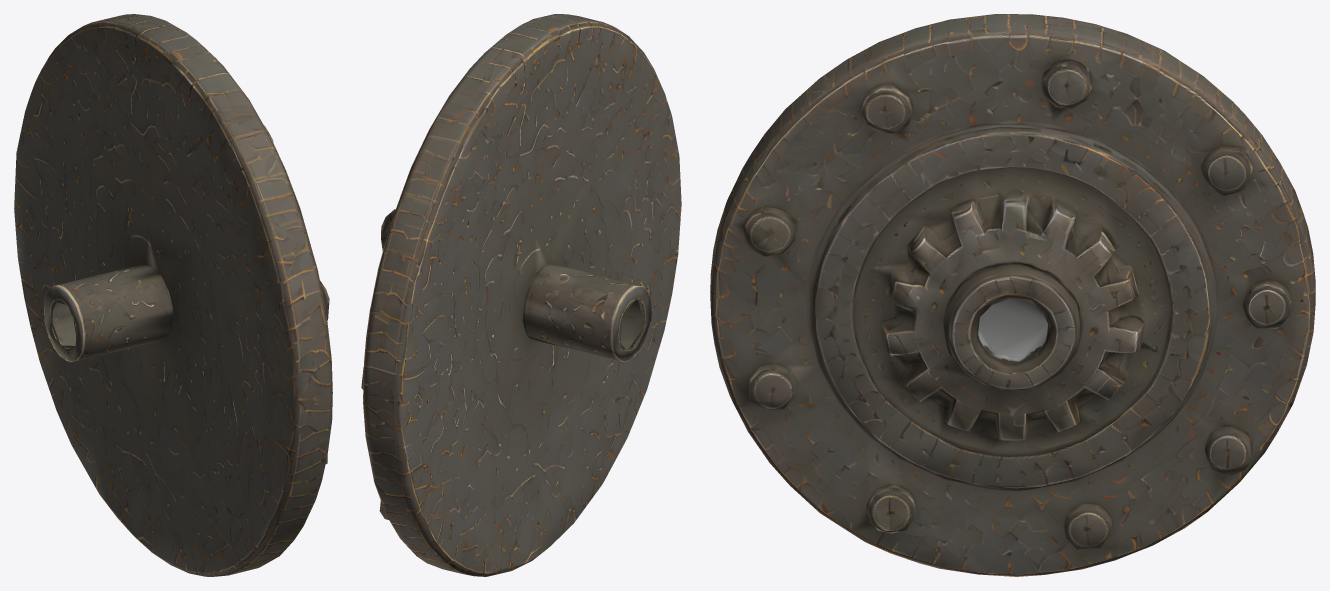
File: IA_Shared_Gear_A2.fbx
3 renders of one model, left to right at view 1: azimuth 30°, elevation 25°; view 2: azimuth 150°, elevation 25°; view 3: azimuth 270°, elevation 25°, orthographic. The views are drawn at different scales.
Parts seen in each view (by area): view 1: tripo_node_c1aa0f2e; view 2: tripo_node_c1aa0f2e; view 3: tripo_node_c1aa0f2e.
Boxes of the visible parts, x1,y1,x2,y2 form: tripo_node_c1aa0f2e: [14, 14, 332, 576]; tripo_node_c1aa0f2e: [361, 14, 681, 576]; tripo_node_c1aa0f2e: [710, 14, 1315, 576].
Size of the model in its own units: 0.3509 by 1 by 1.
